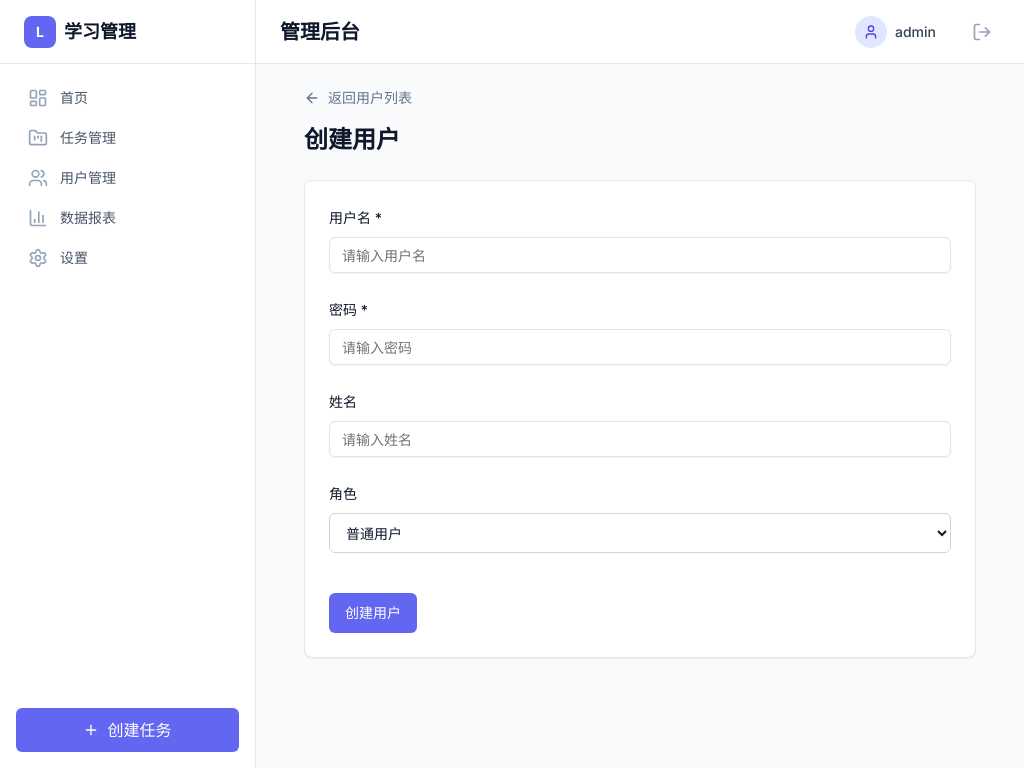
CreateUserPage › shows network error on fetch failure
Type "testuser" into the field with placeholder "请输入用户名" at {"x": 640, "y": 255}, box [329,237,951,273]
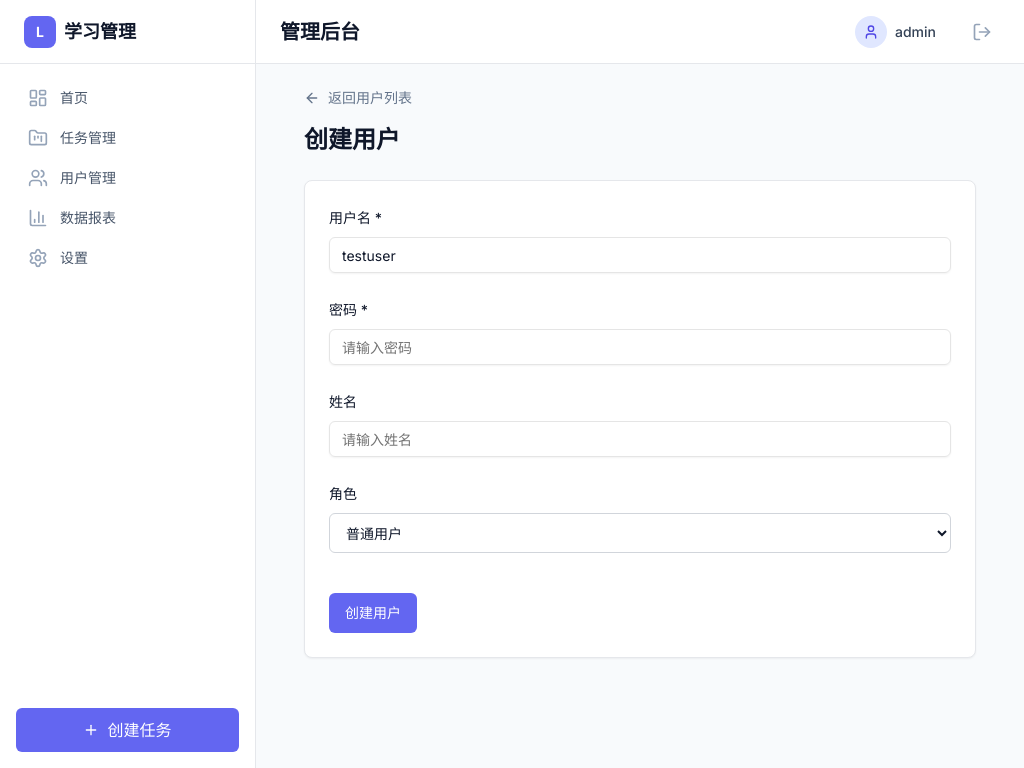
Type "password123" into the password field with placeholder "请输入密码" at {"x": 640, "y": 347}, box [329,329,951,365]
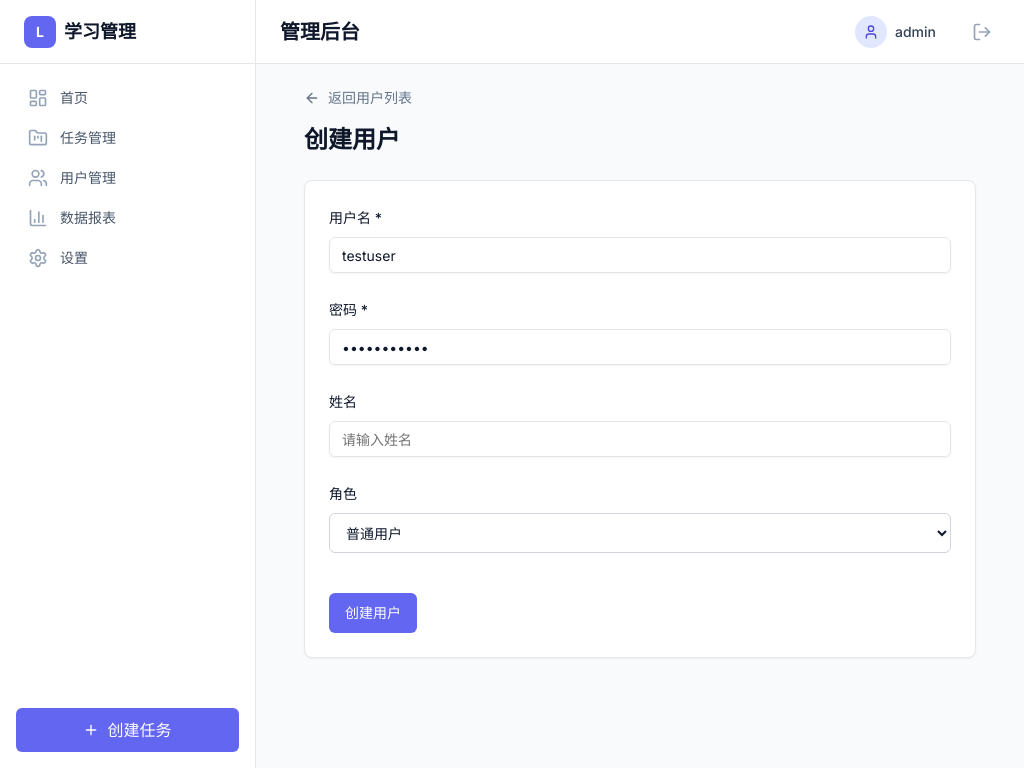
Click the button "创建用户" at {"x": 373, "y": 613}, box [329,593,417,633]
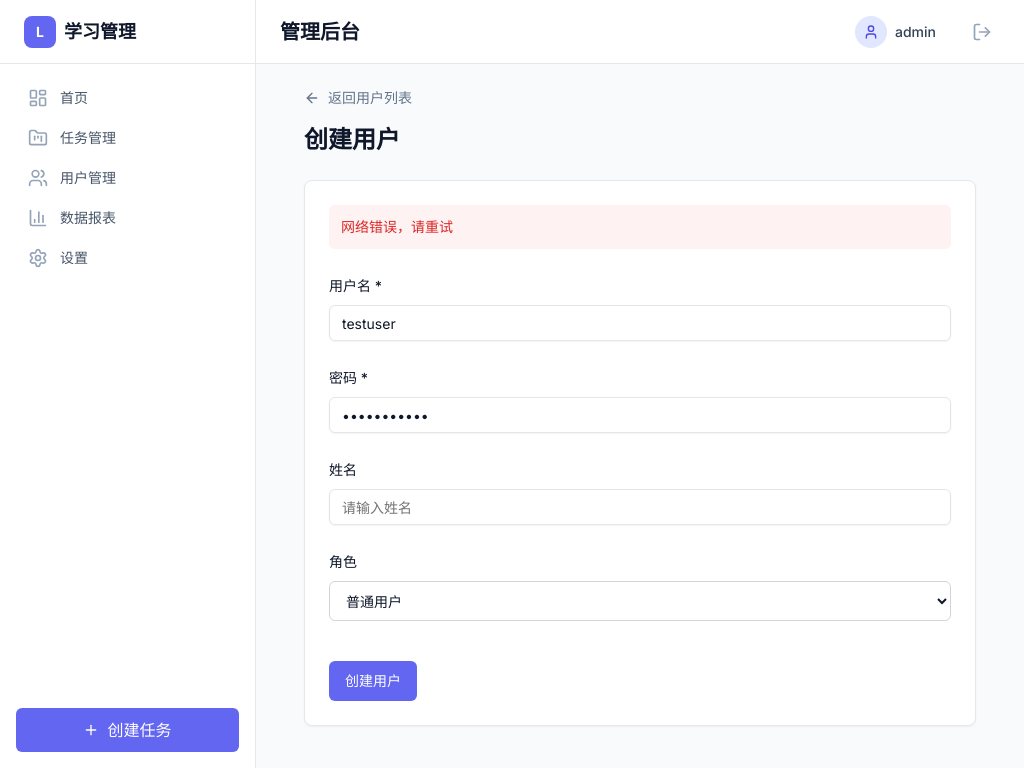
Result: the text "网络错误，请重试" is shown at [329,205,951,249]
